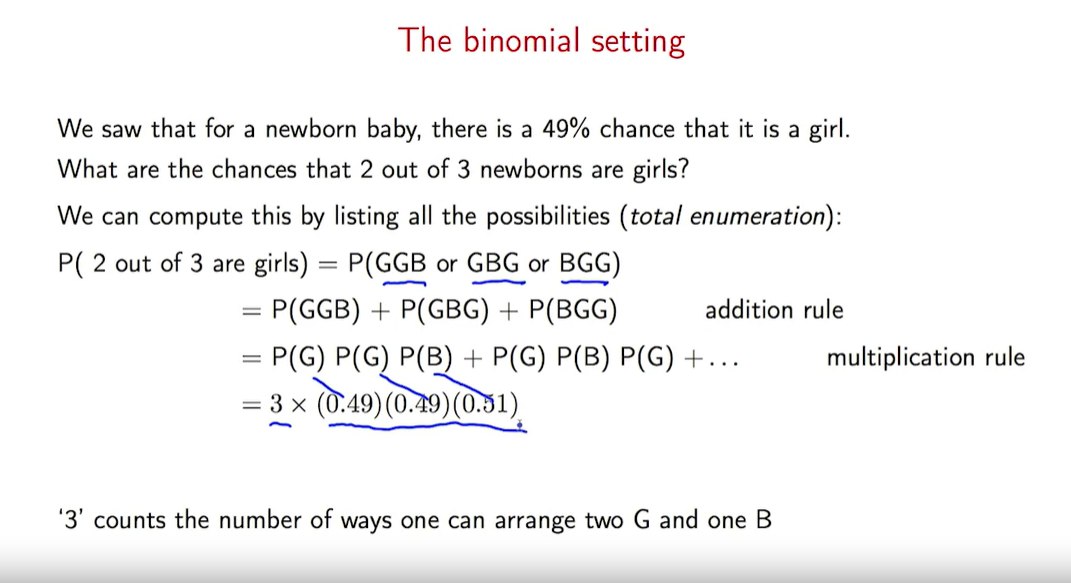equation: (55, 245, 1025, 433)
text: (55, 117, 849, 146), (55, 205, 846, 233), (55, 507, 775, 536), (54, 158, 693, 181), (391, 24, 691, 61)
